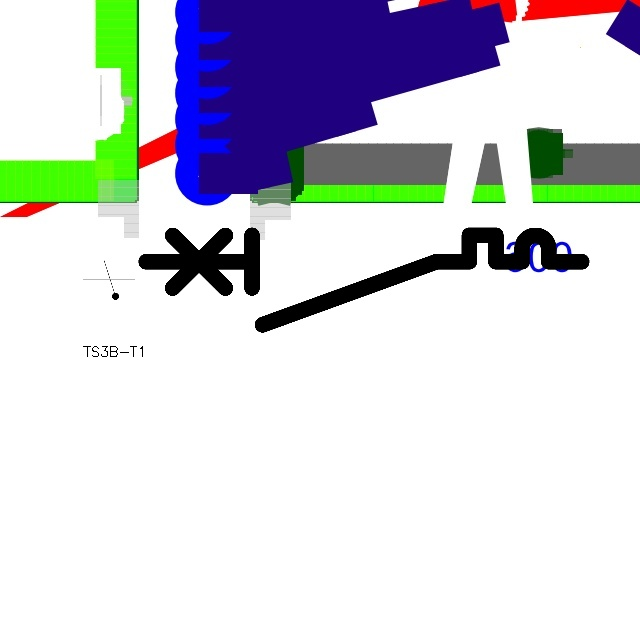interruptor_termomagnetico: (134, 224, 592, 336)
